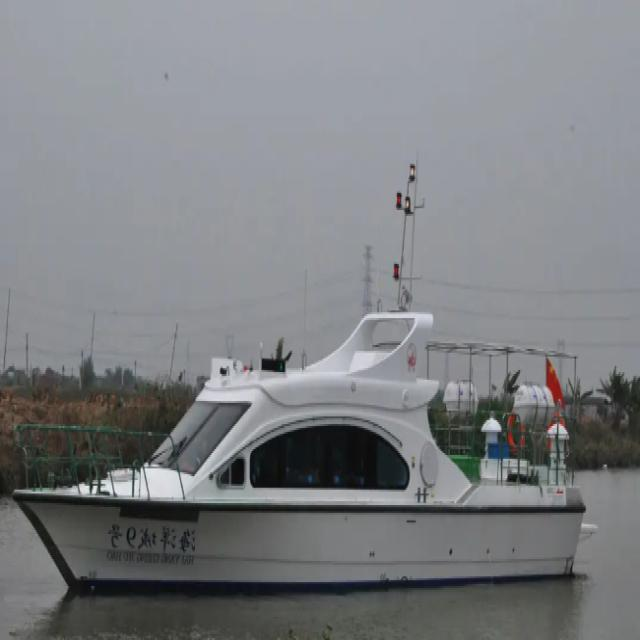houseboat: (5, 246, 597, 613)
